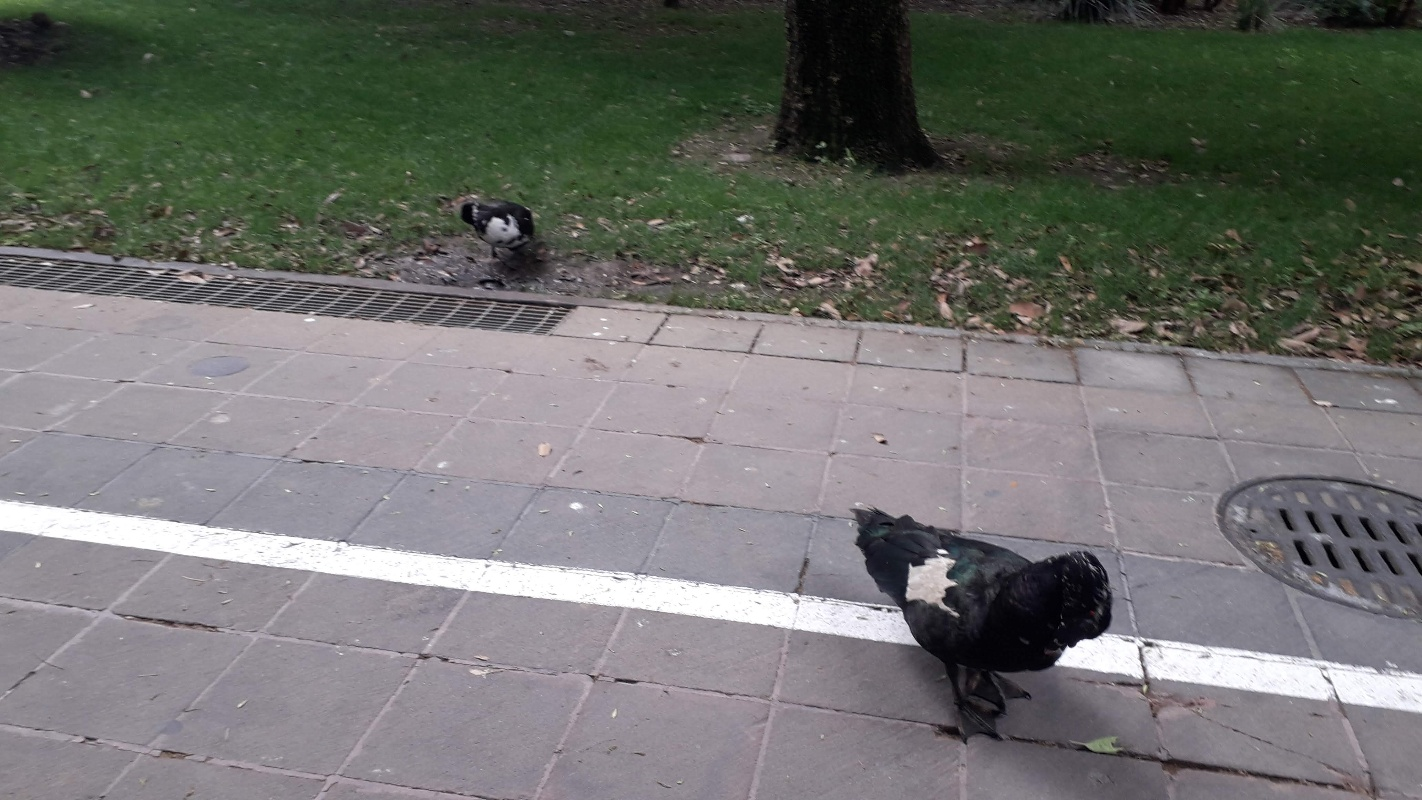pato: (848, 496, 1099, 753), (467, 200, 534, 265)
